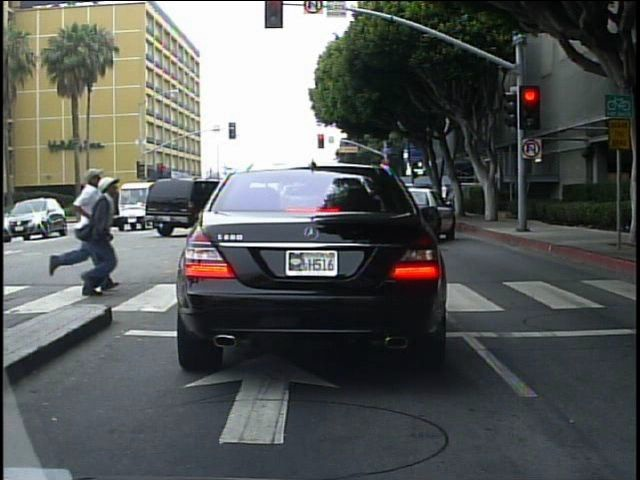person: (58, 170, 127, 295), (49, 165, 102, 297), (438, 179, 453, 215)
